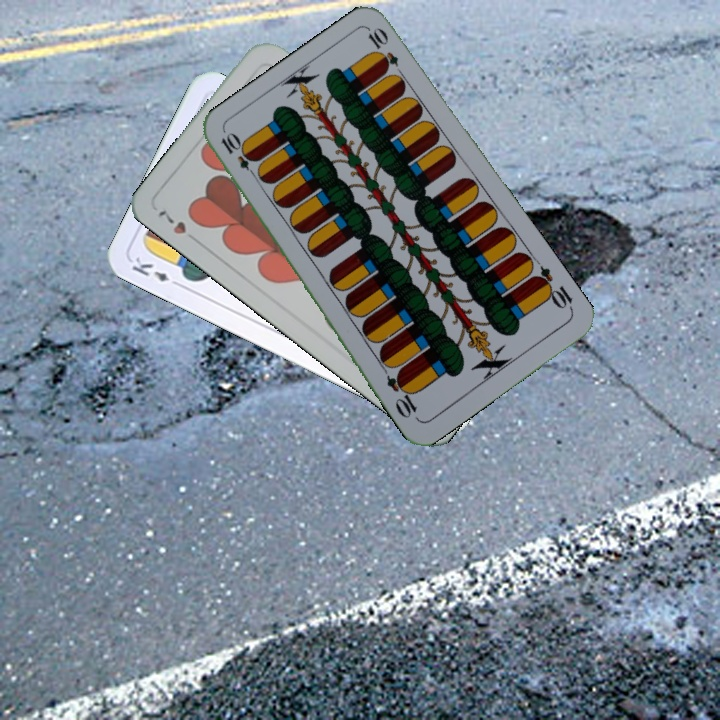E10: (528, 262, 576, 314), (217, 129, 262, 182)
EK: (128, 253, 184, 290)
H7: (153, 204, 202, 247)
